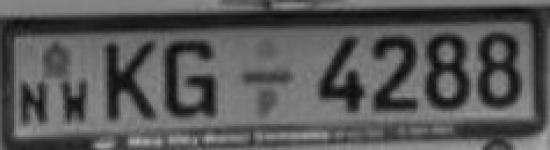-: (236, 66, 299, 90)
2: (370, 30, 425, 117)
4: (308, 30, 369, 115)
8: (472, 30, 528, 114), (426, 29, 473, 117)
G: (161, 35, 226, 125)
K: (102, 36, 162, 124)
N: (16, 78, 53, 128)
W: (58, 76, 94, 127)
